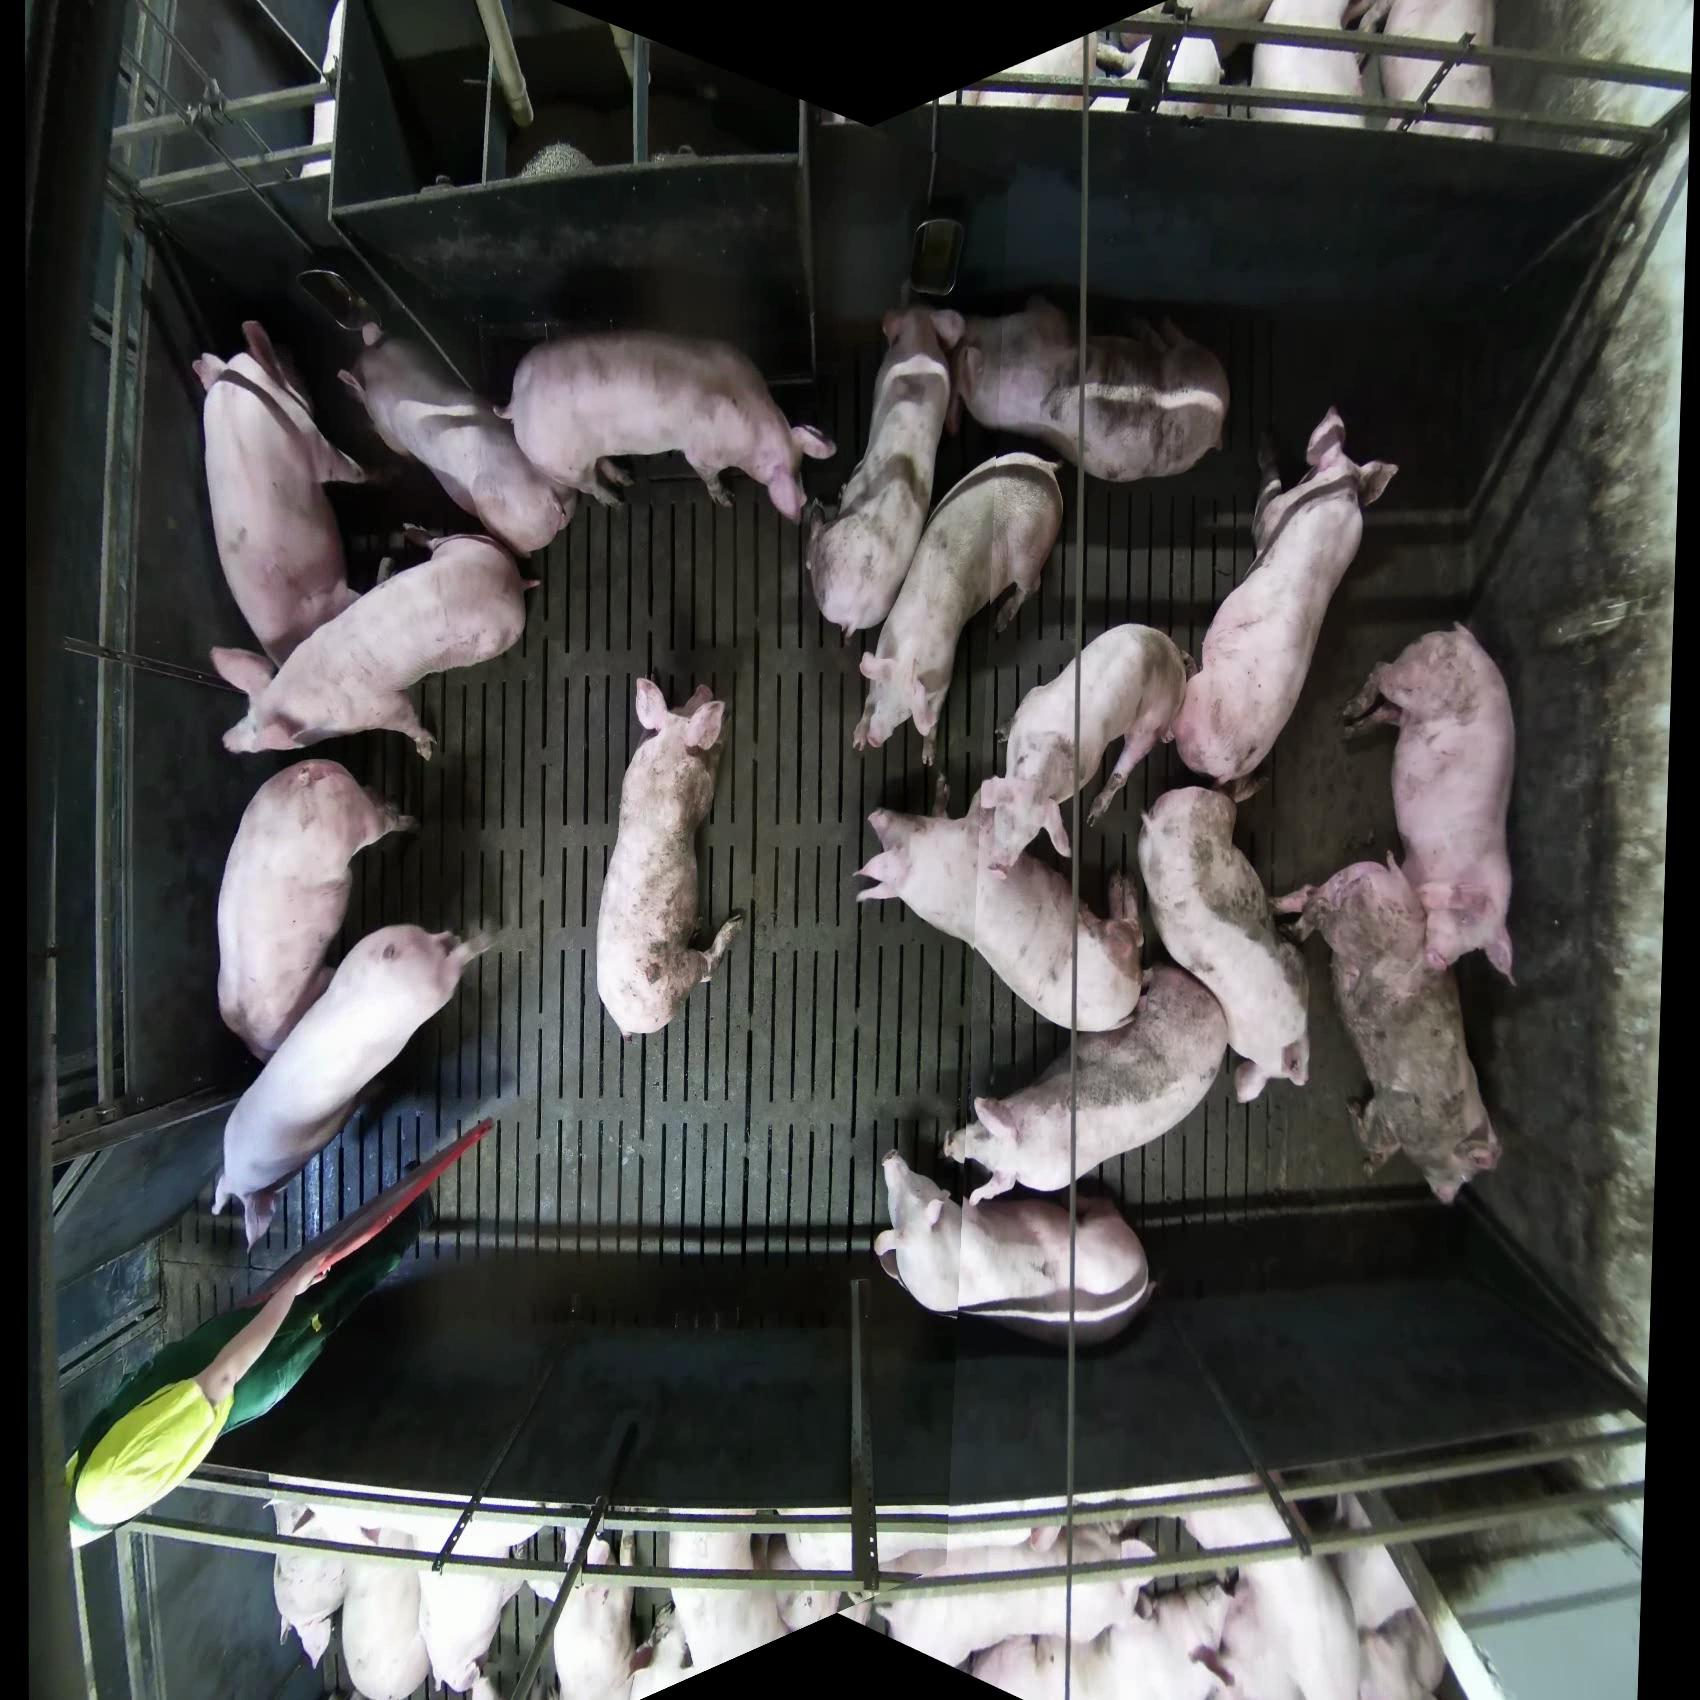pig: (208, 920, 505, 1256), (1169, 404, 1400, 803), (296, 269, 577, 558), (1272, 855, 1503, 1207), (209, 528, 541, 762), (851, 774, 1147, 1036), (940, 961, 1230, 1204), (851, 451, 1066, 768), (1338, 620, 1519, 987), (507, 329, 836, 525), (215, 758, 420, 1066), (191, 319, 370, 669), (1095, 1, 1499, 142), (1136, 784, 1313, 1105), (872, 1149, 1153, 1346), (594, 674, 745, 1038), (803, 304, 966, 640), (950, 295, 1231, 484), (990, 622, 1190, 864), (871, 1522, 1158, 1670), (1102, 1, 1272, 122), (1373, 1, 1498, 142), (1248, 1, 1377, 129)
worker: (65, 1113, 498, 1551)
